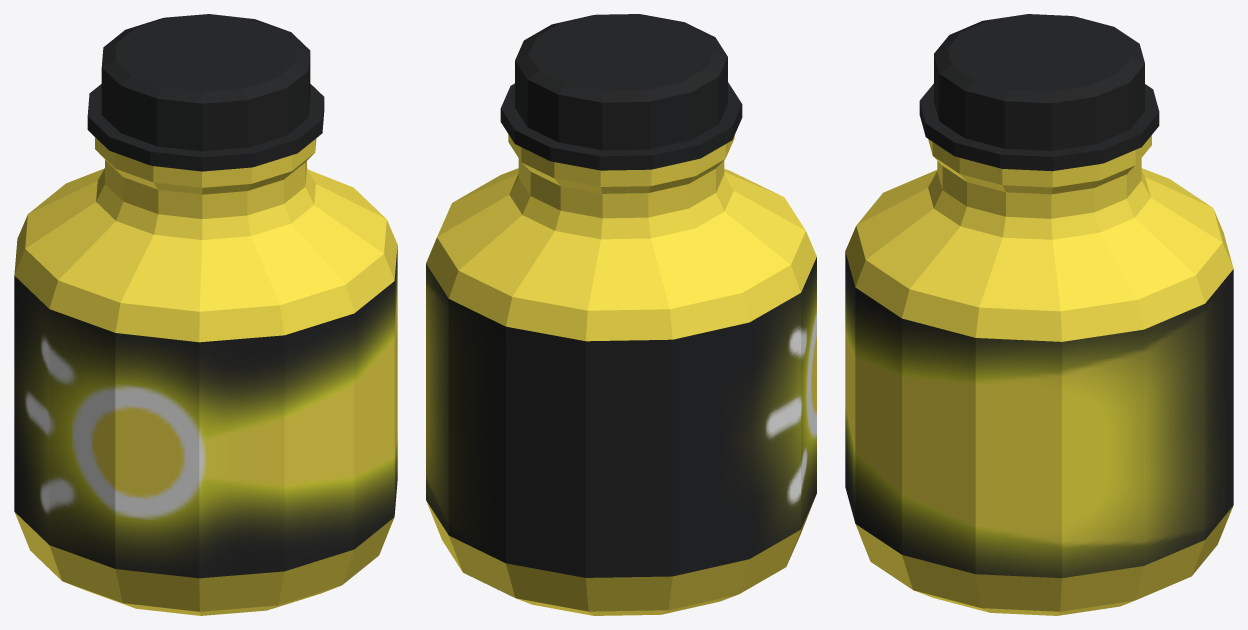
File: Light sensitive chemical.fbx
The picture shows the model from 3 angles, left to right: view 1: azimuth 30°, elevation 25°; view 2: azimuth 150°, elevation 25°; view 3: azimuth 270°, elevation 25°; orthographic projection.
Parts seen in each view (by area): view 1: light_sensitive_chemical; view 2: light_sensitive_chemical; view 3: light_sensitive_chemical.
Boxes of the visible parts, x1,y1,x2,y2 form: light_sensitive_chemical: (14, 14, 397, 615); light_sensitive_chemical: (426, 14, 816, 615); light_sensitive_chemical: (845, 14, 1233, 615).
Size of the model in its own units: 0.7611 by 1.08 by 0.7617.
